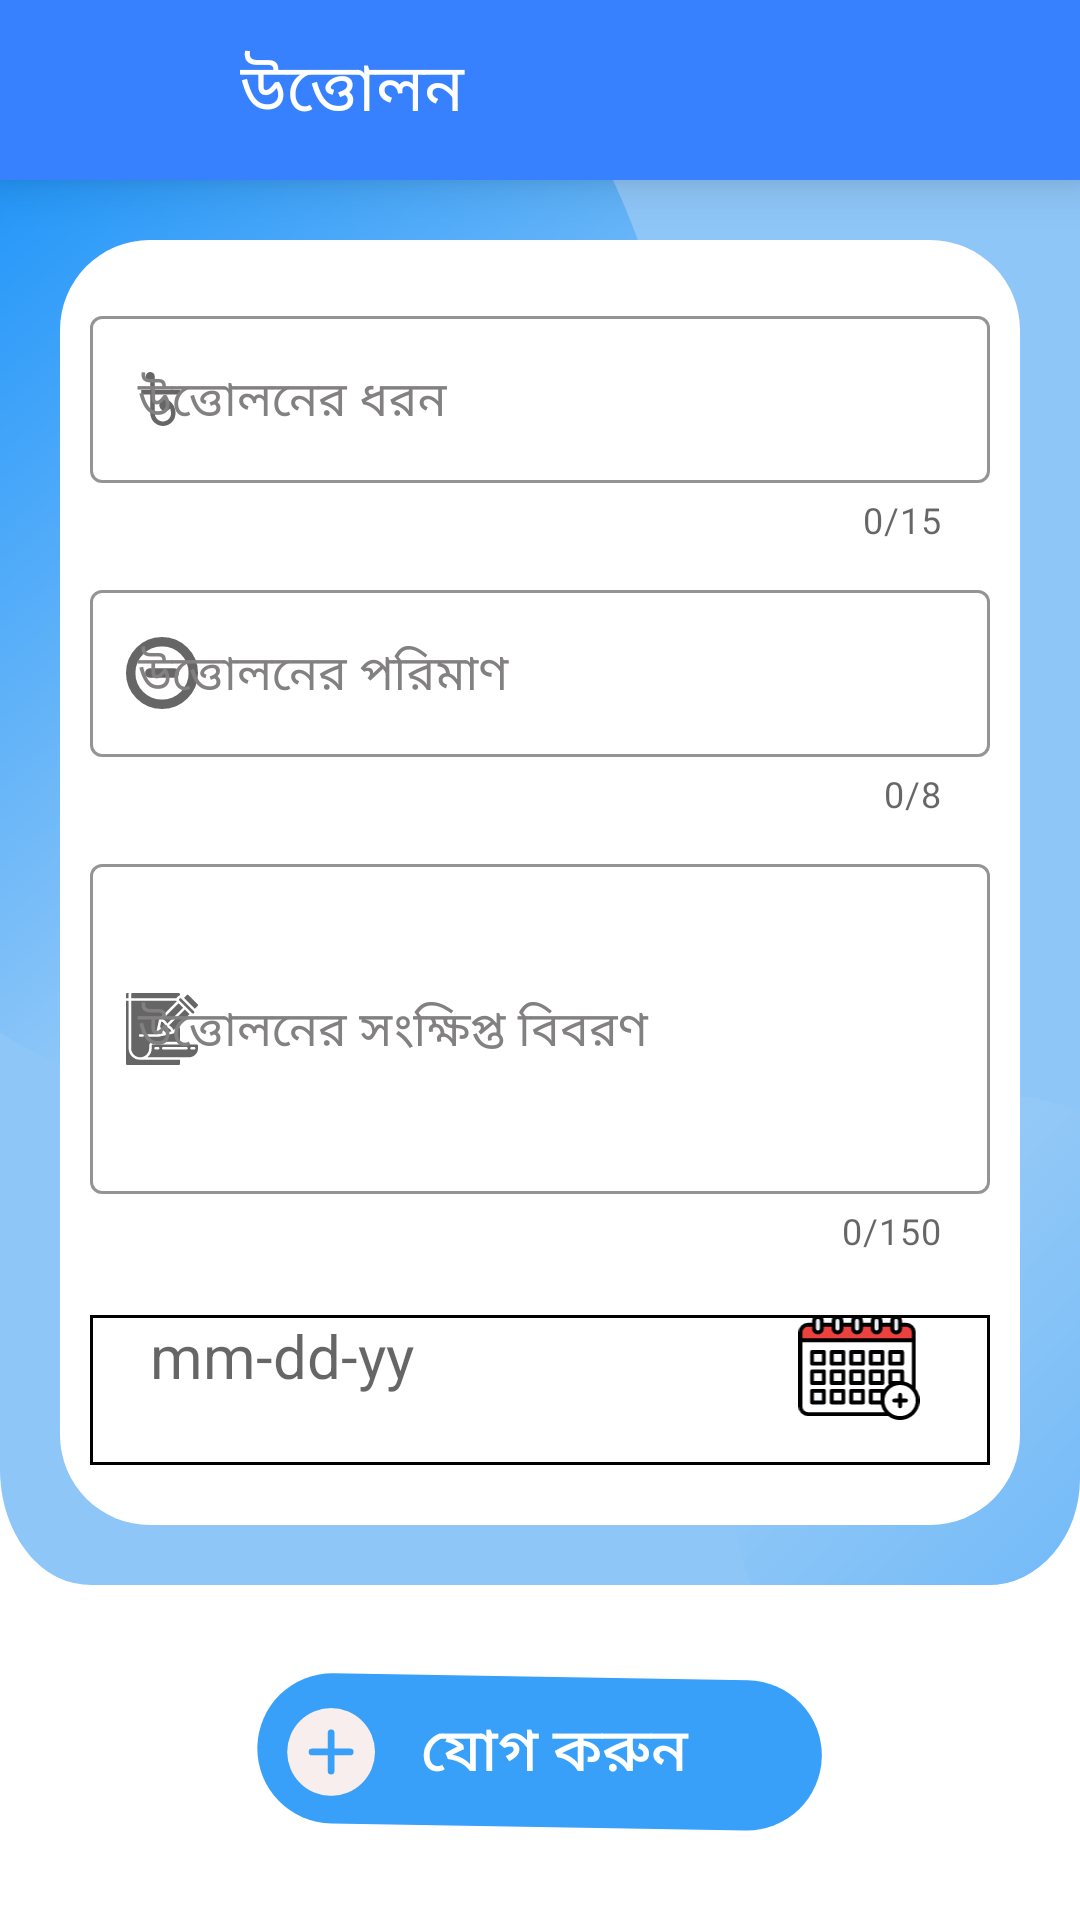

Point at icon controls on the screen. Image size 1080×1920, points as (x,y).
calender: (859,1367)
